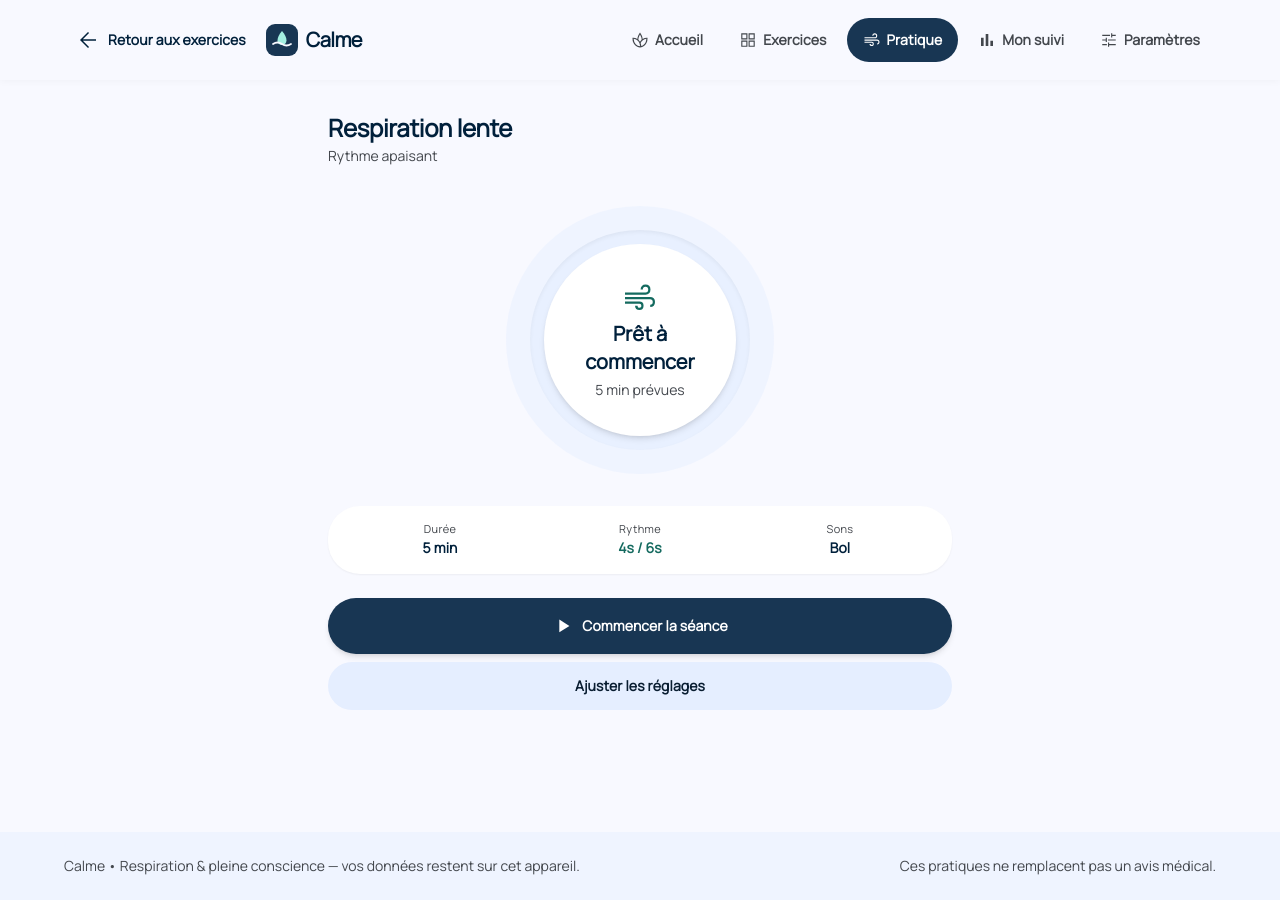
slow breathing practice › 30 s active + 10 s paused + 20 s active is recorded as 50 s
The width and height of the screenshot is (1280, 900).
Click the button "Commencer la séance" at (640, 626), box 328,598 -> 952,654
Wait 30000 ms
(page scrolled)
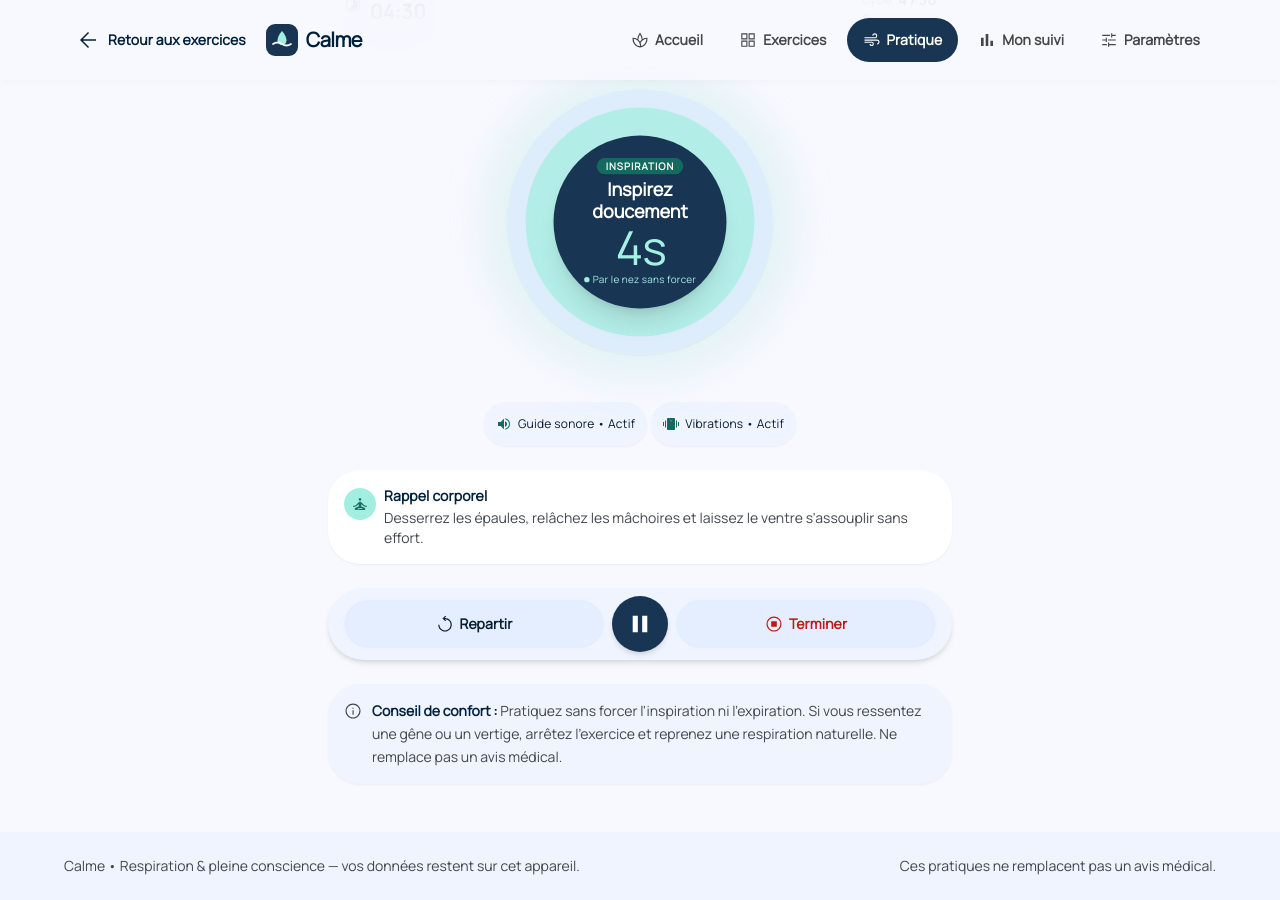
Click the button named "Mettre en pause" at (640, 624), box 612,596 -> 668,652
Wait 10000 ms
(page scrolled)
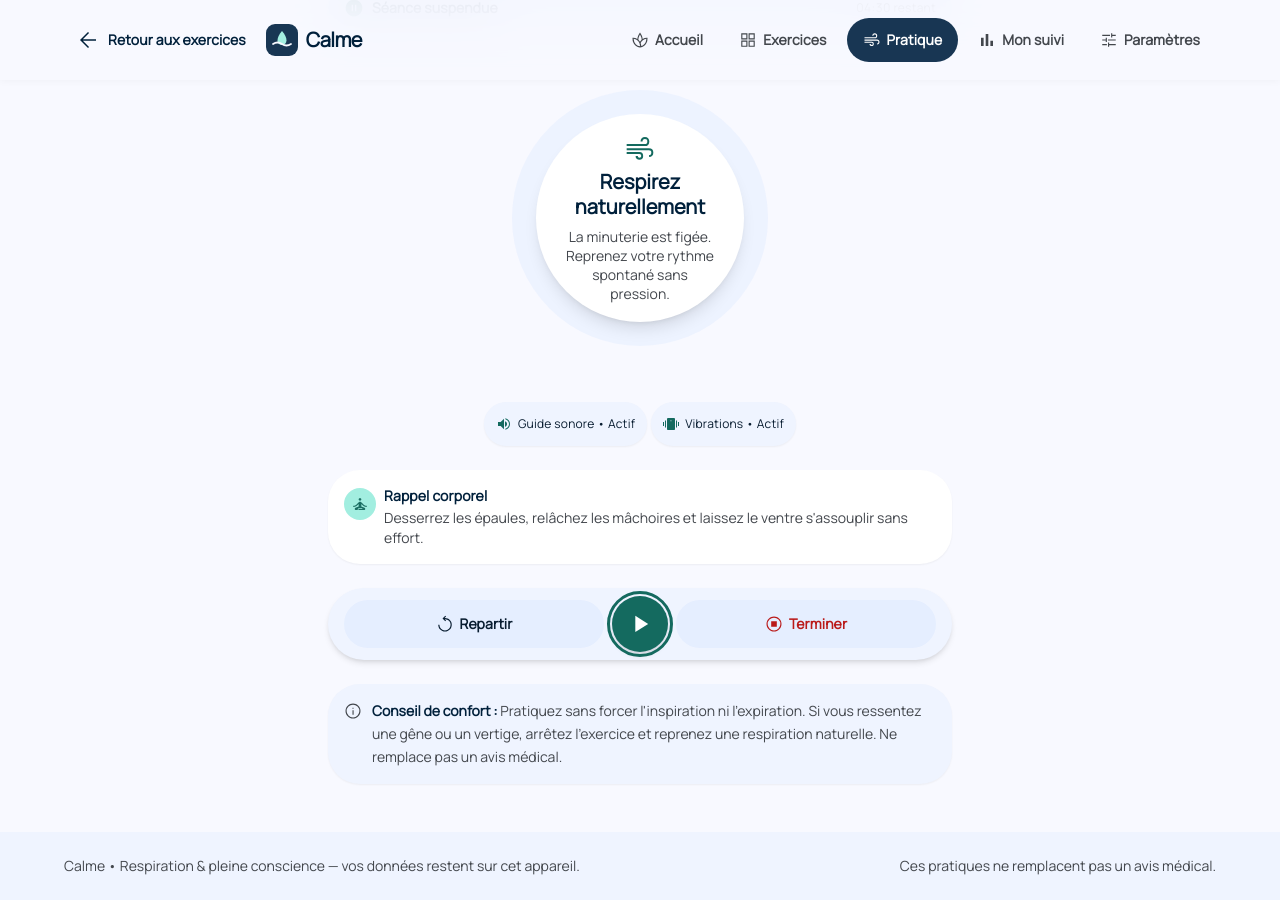
Expected: the text "04:30 restant" is shown, 856,0 -> 936,16
Expected: the text "Respirez naturellement" is shown, 575,168 -> 705,220
Expected: the text "La minuterie est figée" is shown, 566,226 -> 714,303
Click the button named "Reprendre la séance" at (640, 624), box 612,596 -> 668,652
Wait 20000 ms
(page scrolled)
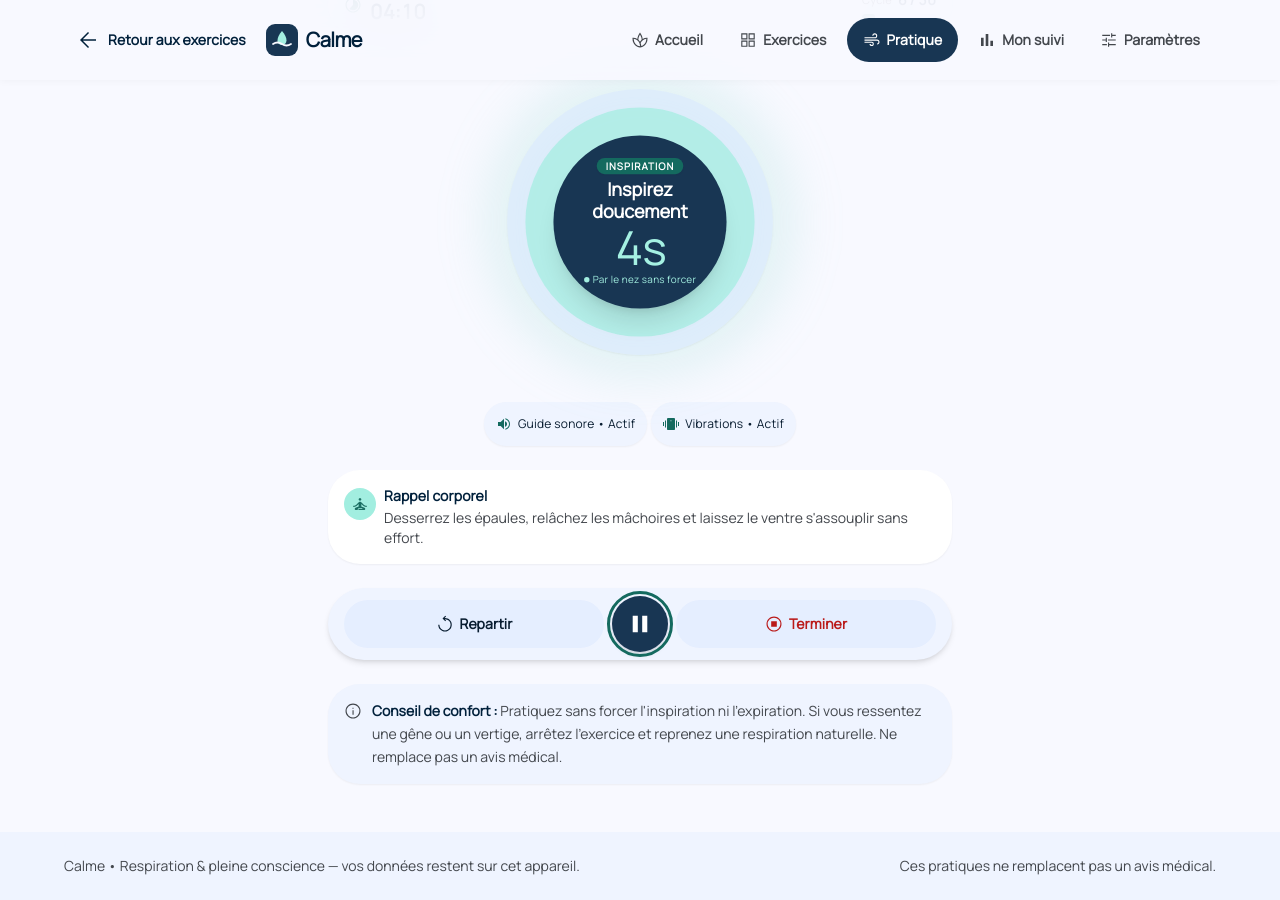
Click the button "Terminer" at (806, 624), box 676,600 -> 936,648
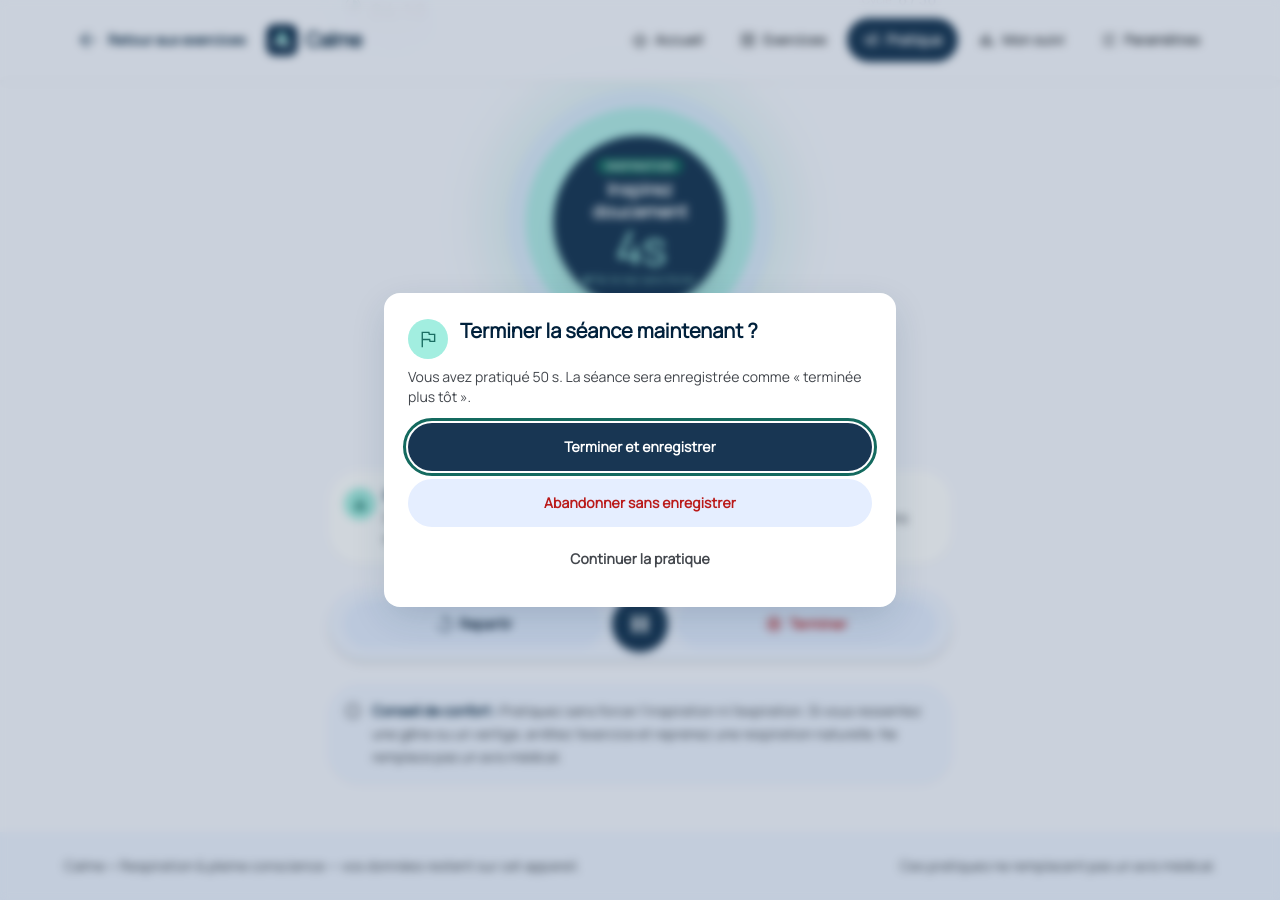
Click the button "Terminer et enregistrer" at (640, 447), box 408,423 -> 872,471
(page scrolled)
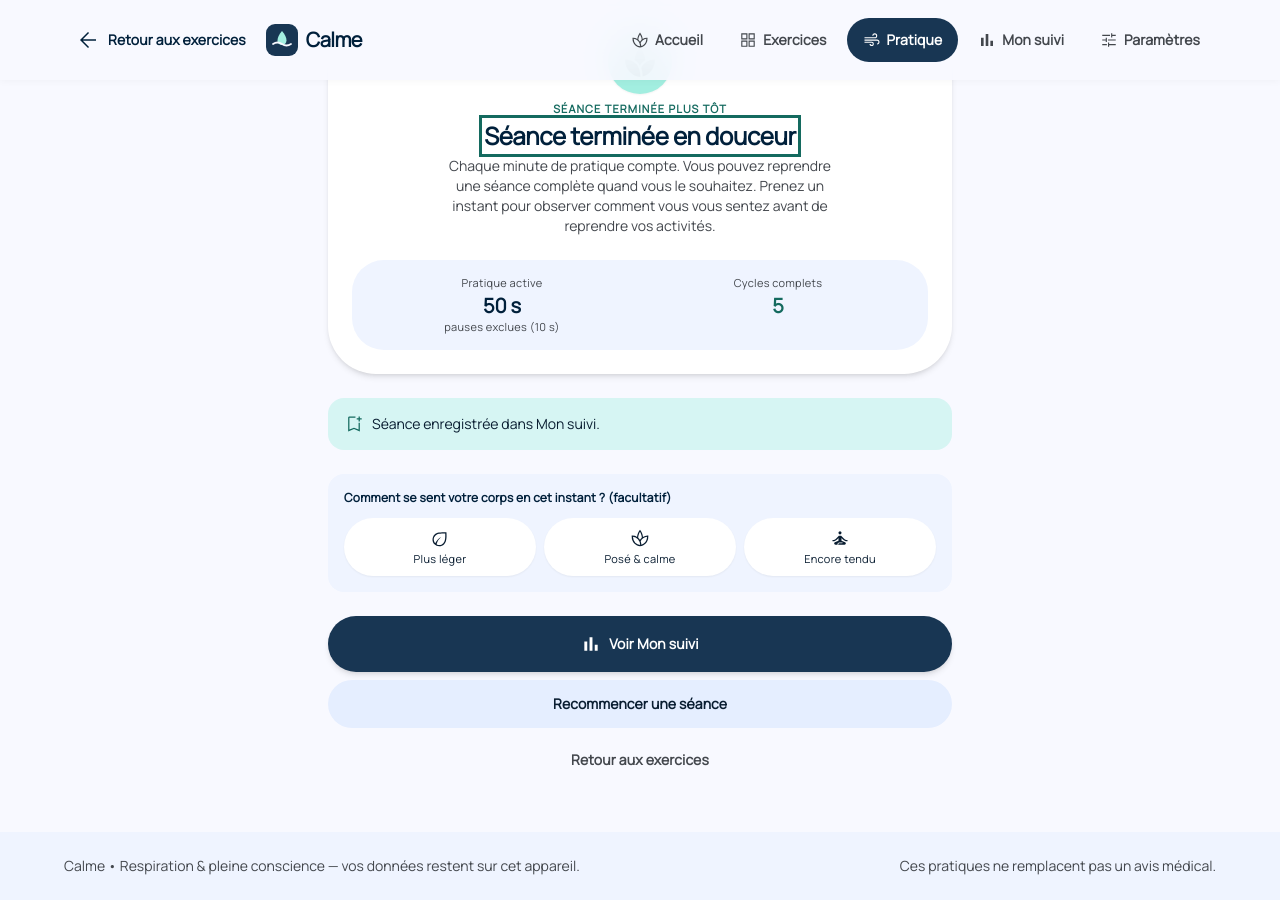
Expected: the text with test id "summary-active" reads "50 s", 483,292 -> 521,319
Expected: the text with test id "summary-status" reads "Séance terminée plus tôt", 553,101 -> 727,116
Expected: the message with test id "save-state" shows "Séance enregistrée dans Mon suivi", 372,414 -> 600,433
